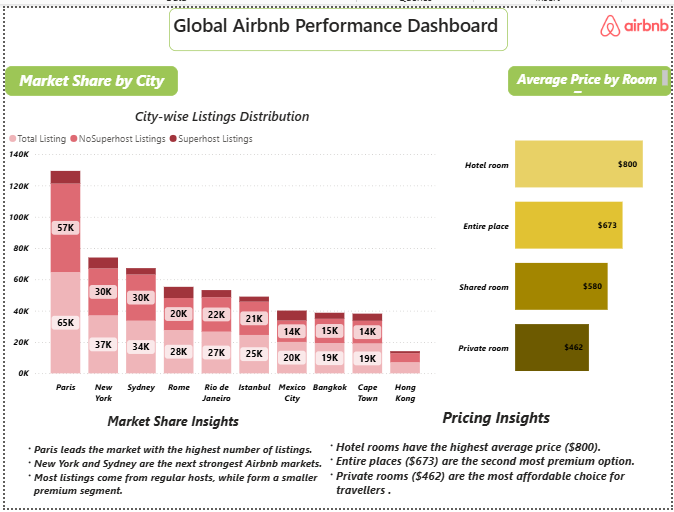

Layout of this report page (visuals, bound fields, positions):
{"tool":"powerbi","page":{"name":"Market Share & Pricing","canvas":[960,720],"ordinal":1},"visuals":[{"type":"image","box":[852.5,0,108,50.4],"z":1000},{"type":"textbox","box":[0,83.5,249.1,43.2],"z":2000},{"type":"lineStackedColumnComboChart","title":"City-wise Listings Distribution","fields":{"Category":["Listings.city"],"Y":["Listings.Total Listing","Listings.NoSuperhost Listings","Listings.Superhost Listings"]},"box":[0,142.6,625,434.9],"z":3000},{"type":"barChart","fields":{"Category":["Listings.room_type"],"Y":["Listings.Avg_Price"]},"box":[646.6,142.6,313.9,423.4],"z":4000},{"type":"textbox","box":[724.3,83.5,236.2,43.2],"z":5000},{"type":"textbox","box":[453.6,570.2,506.9,149.8],"z":6000},{"type":"textbox","box":[453.1,570.2,506.9,149.8],"z":7000},{"type":"textbox","box":[18.7,577.4,446.4,142.6],"z":8000},{"type":"textbox","box":[220.3,0,486.7,60.5],"z":8002}]}

Visuals, with their boxes in screenshot pixels (x1, y1, x2, y2), scaled from the page's 960x720 canvas onto the 674x512 screenshot:
image: <bbox>599, 0, 673, 36</bbox>
textbox: <bbox>0, 59, 175, 90</bbox>
"City-wise Listings Distribution" lineStackedColumnComboChart: <bbox>0, 101, 439, 411</bbox>
barChart - Listings.room_type x Listings.Avg_Price: <bbox>454, 101, 673, 402</bbox>
textbox: <bbox>509, 59, 673, 90</bbox>
textbox: <bbox>318, 405, 673, 511</bbox>
textbox: <bbox>318, 405, 673, 511</bbox>
textbox: <bbox>13, 411, 327, 511</bbox>
textbox: <bbox>155, 0, 496, 43</bbox>
